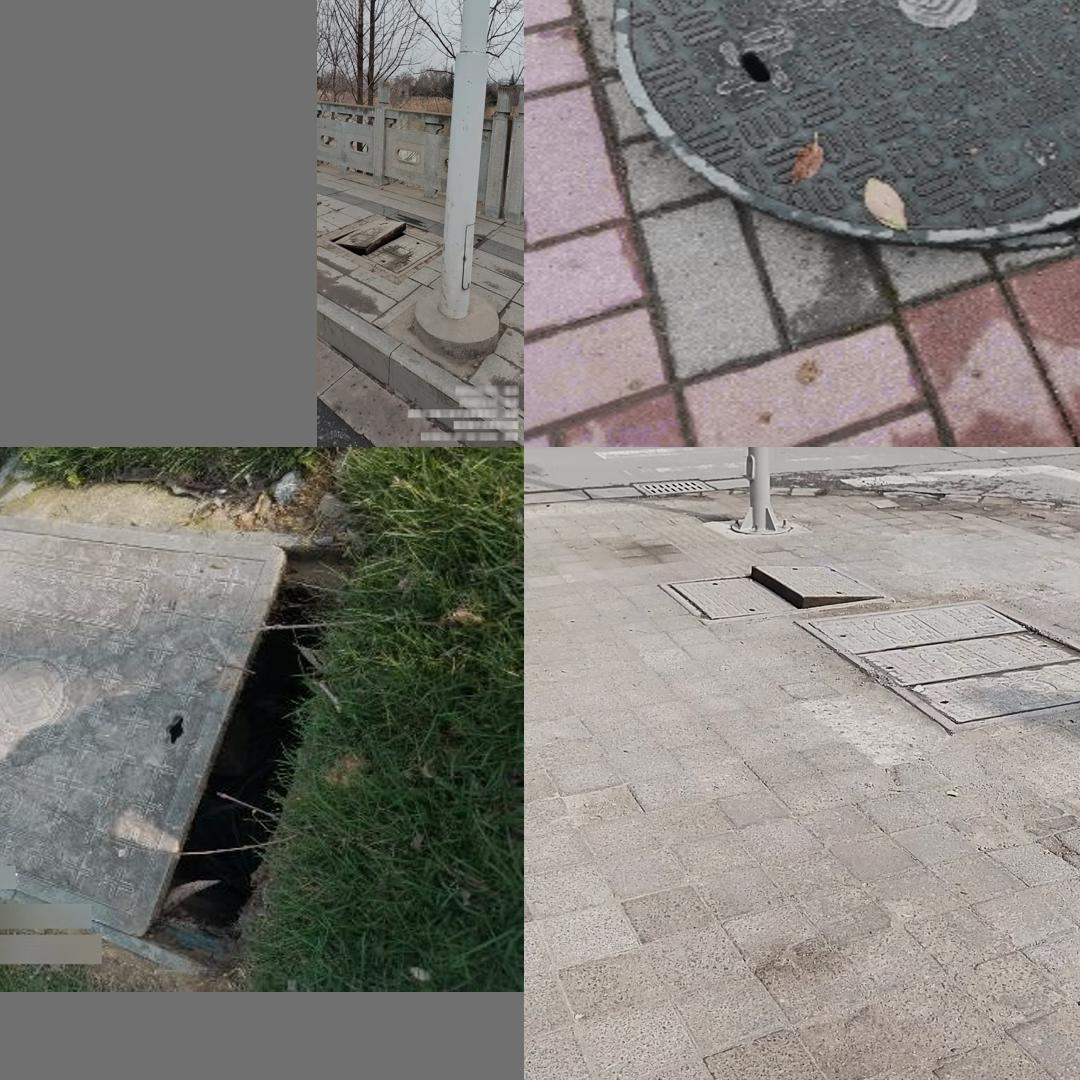good: (790, 600, 1080, 732)
uncovered: (0, 510, 348, 974), (613, 0, 1080, 246), (657, 565, 892, 628), (322, 202, 412, 260)
